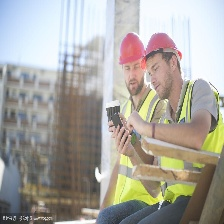helmet: (144, 31, 179, 55), (119, 33, 143, 63)
person: (144, 29, 221, 224), (105, 31, 149, 224)
vest: (166, 76, 221, 205)
